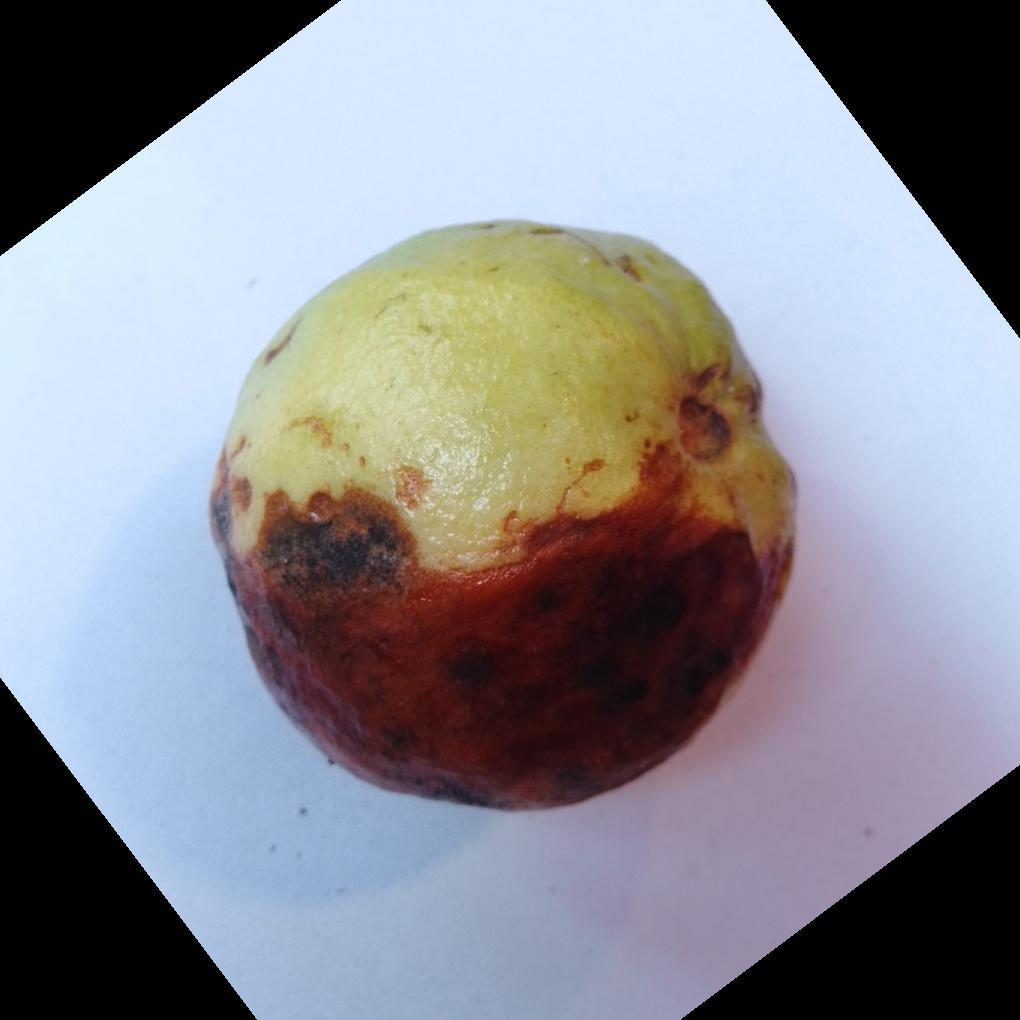FreshOrange: (206, 222, 800, 817)
